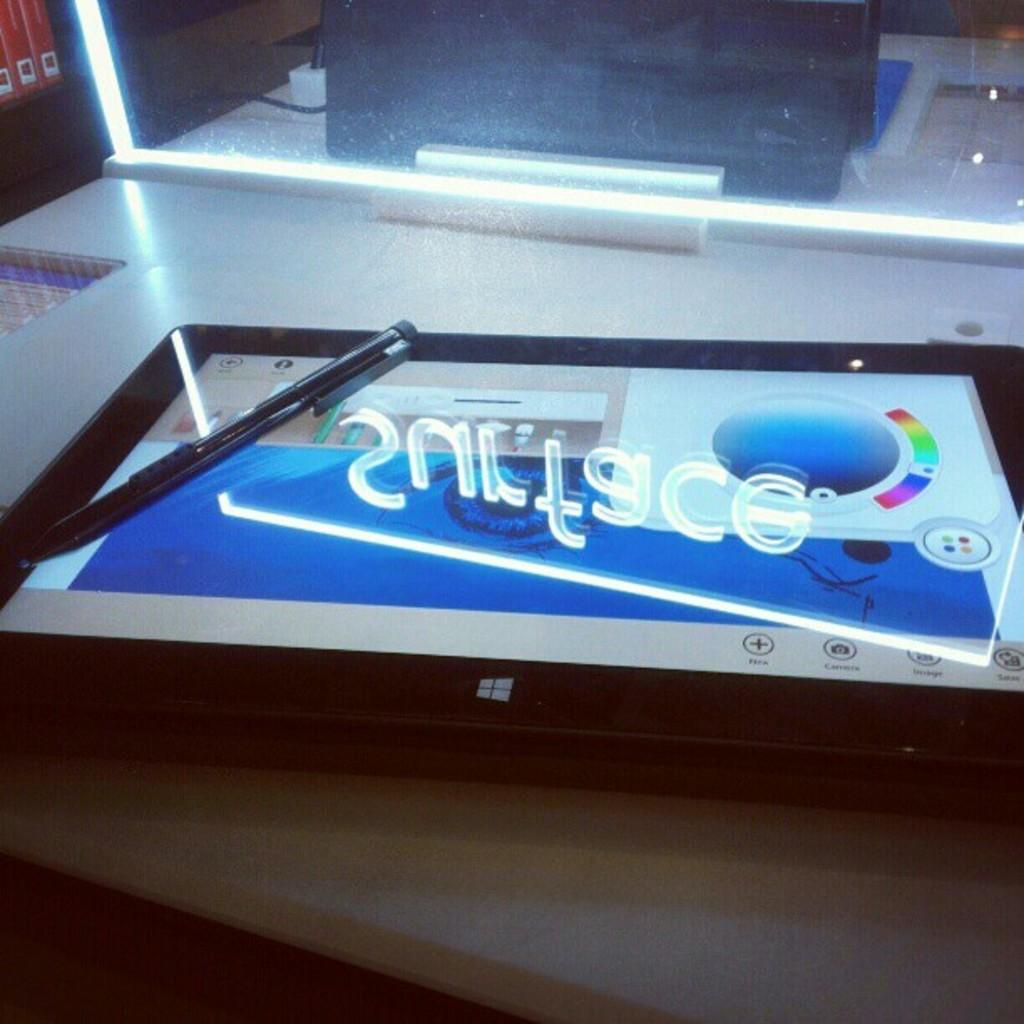pen: (15, 318, 422, 569)
